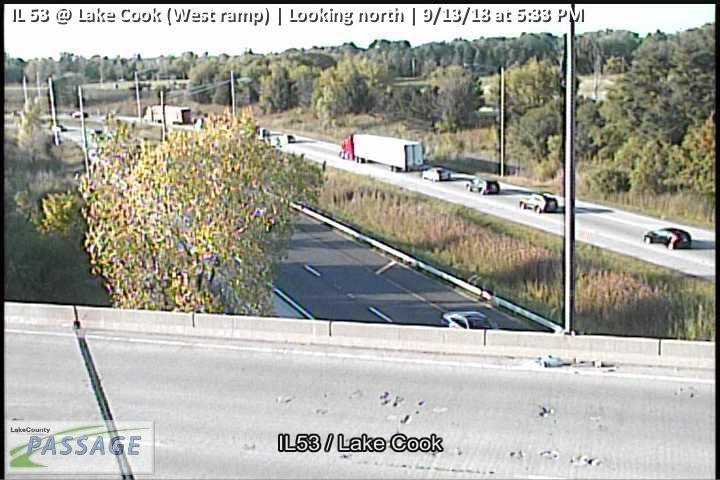SUV: (518, 192, 559, 214), (466, 176, 501, 196)
Sedan: (643, 226, 692, 252), (422, 167, 452, 182)
Truck: (337, 133, 425, 173)
